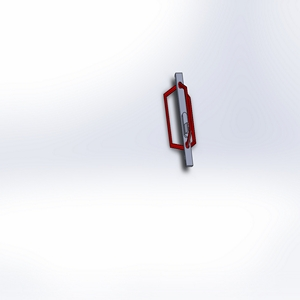submarine: (143, 65, 226, 178)
